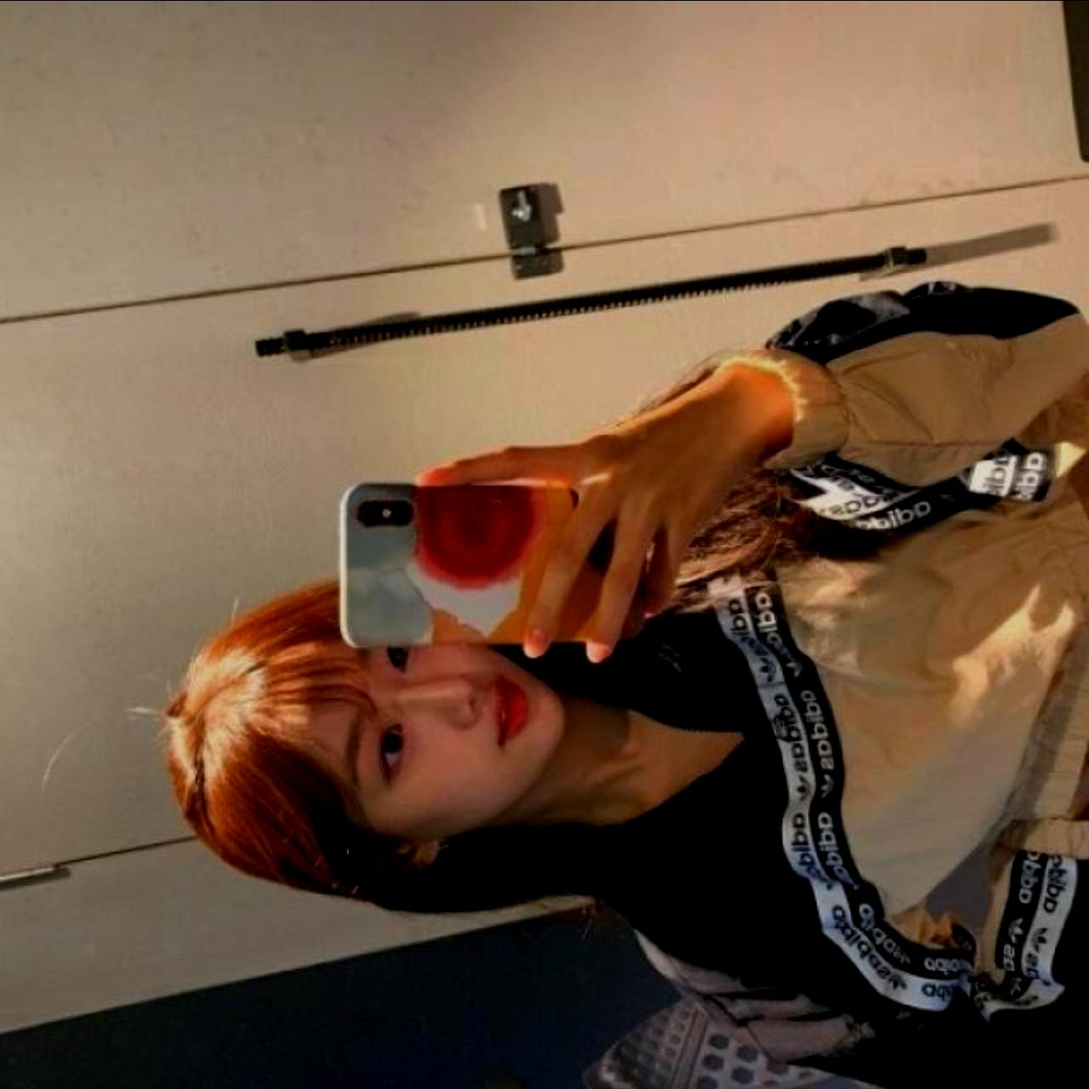phone: (334, 482, 640, 648)
